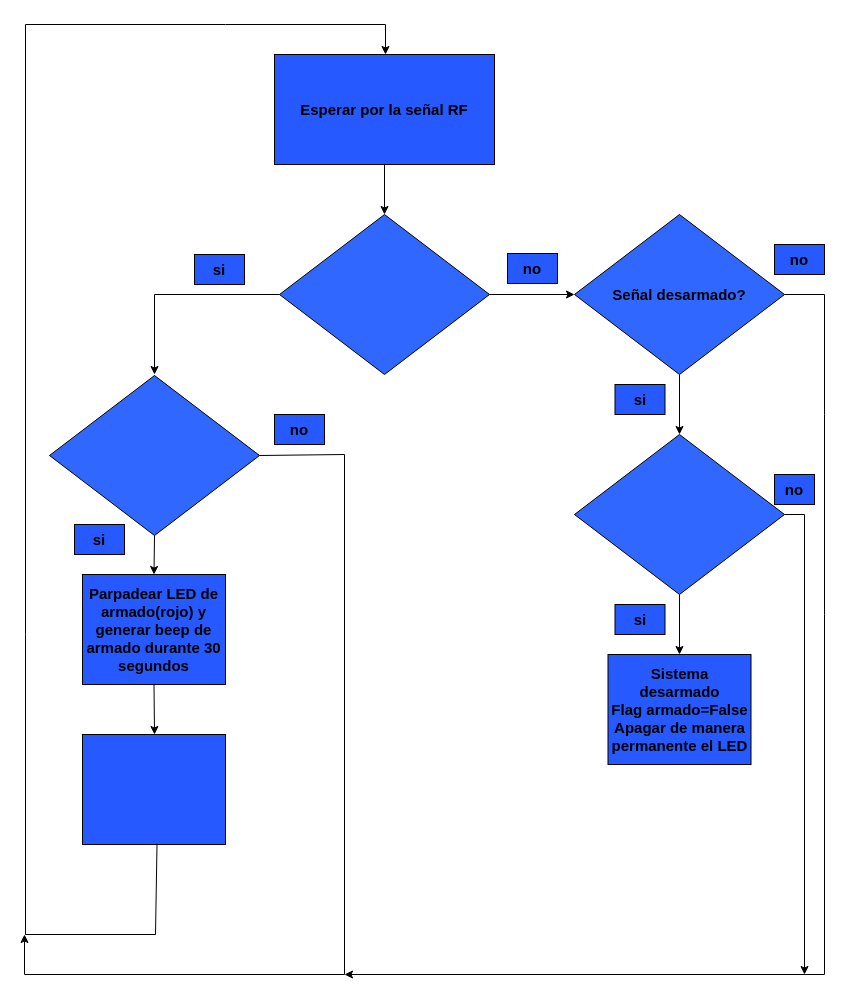
The diagram is 850 pixels wide and 1000 high, and some of its shapes have lost their labels. Here are the shapes that lost their labels. From the top down, the centre of each, then its label:
At [384,294]: "Señal de armado?".
At [154,455]: "Flag desarmado =True?".
At [679,514]: "Flag armado =True?".
At [154,789]: "Sistema armado Flag armado=True Encender de manera permanente el LED".
